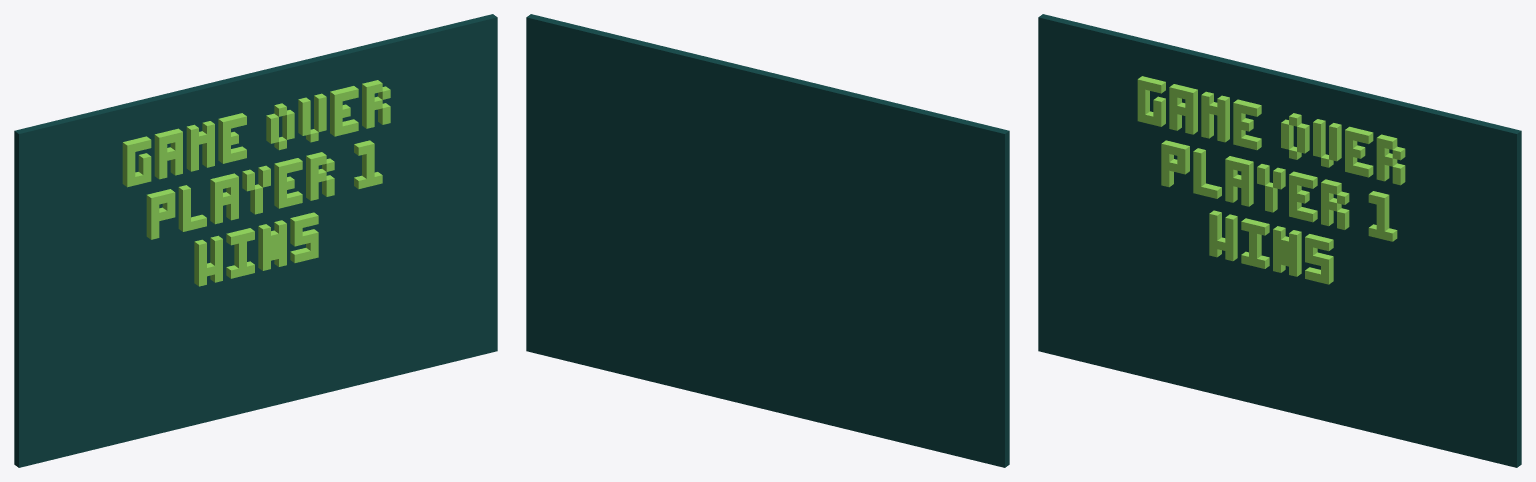
Rendered from WinScreen.obj.
3 renders of one model, left to right at view 1: azimuth 30°, elevation 25°; view 2: azimuth 150°, elevation 25°; view 3: azimuth 330°, elevation 25°, orthographic.
Parts seen in each view (by area): view 1: WinScreen; view 2: WinScreen; view 3: WinScreen.
Part boxes in pixels (left/top/right/bottom): WinScreen: left=14, top=14, right=497, bottom=467; WinScreen: left=526, top=14, right=1009, bottom=467; WinScreen: left=1038, top=14, right=1521, bottom=467.
Bounding box in the file's own units: 60 × 40 × 2.
Materials: 1 (1 with a texture image).
